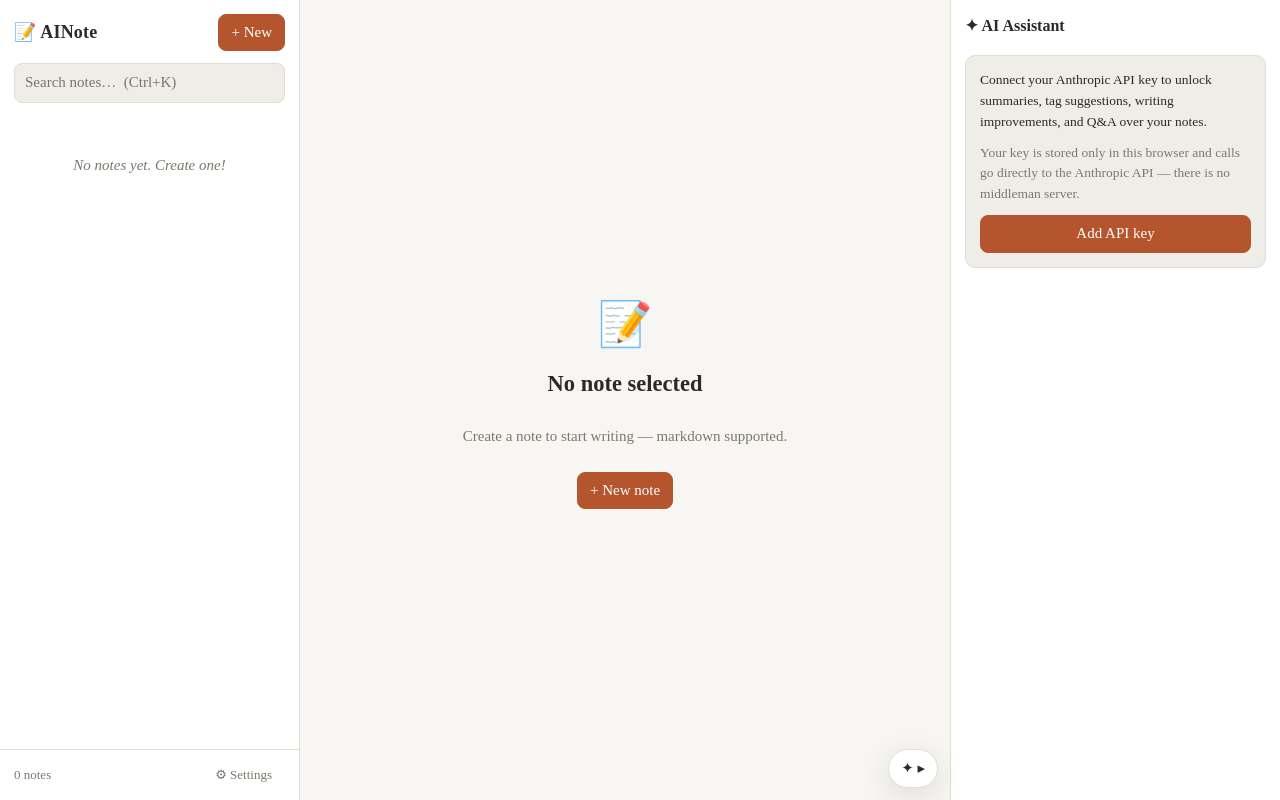
it: App › creates a note and edits its title
Click the button "+ New" at (252, 33), box [218,14,285,51]
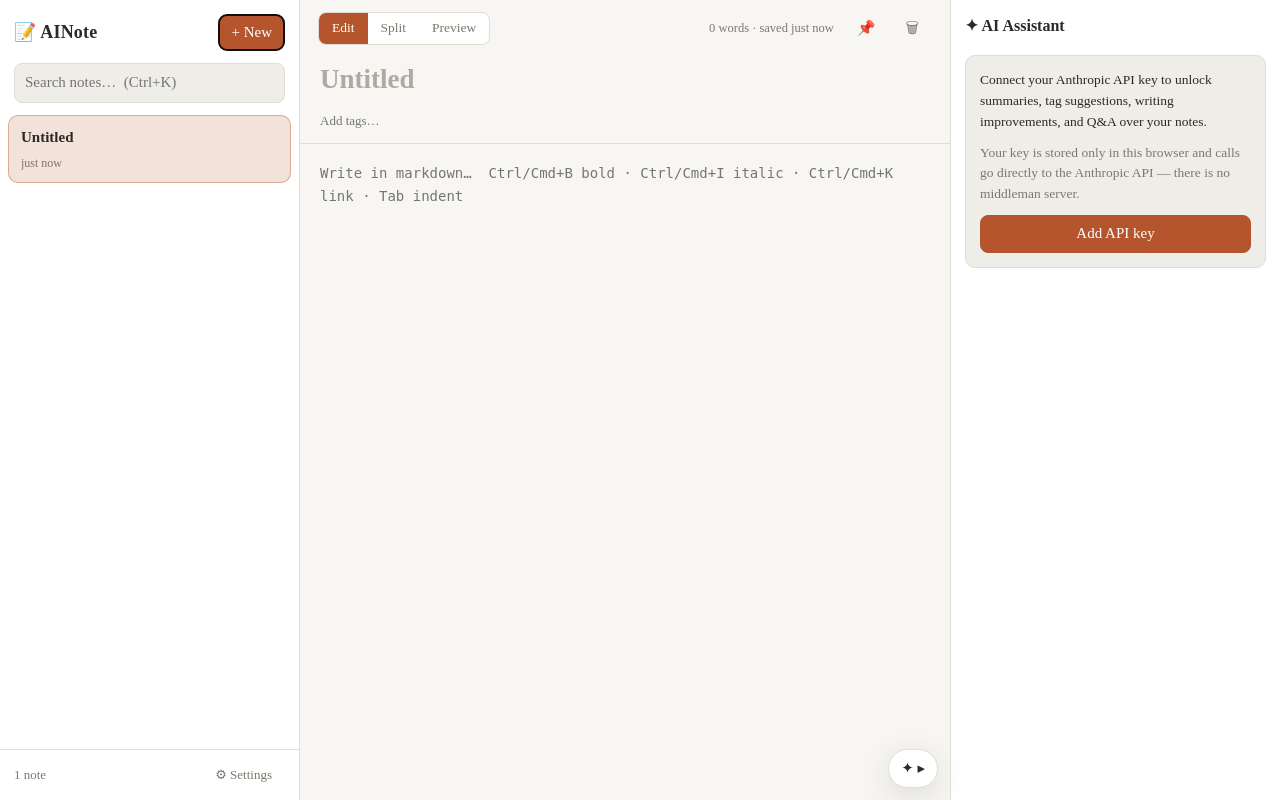
Type "Standup notes" into the field named "Note title" at (625, 75), box [300,47,950,103]
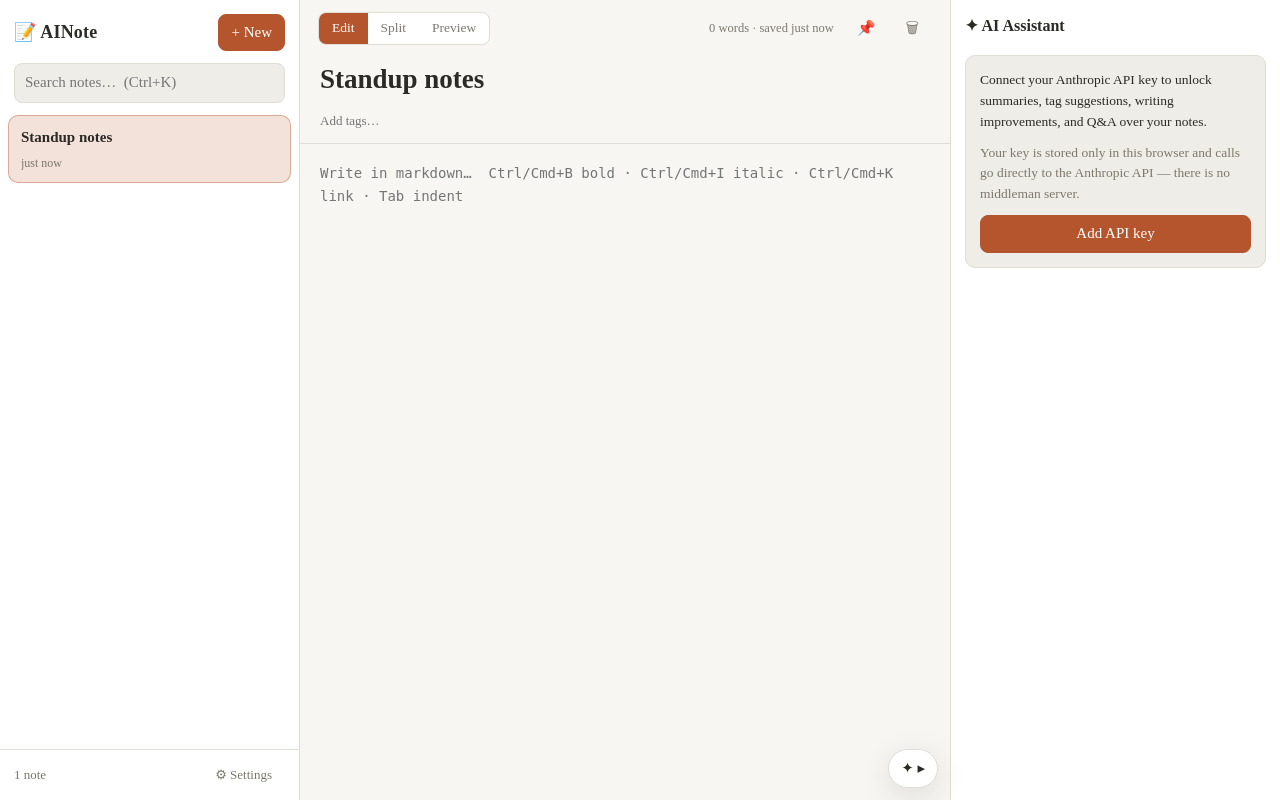
Expected: the text "1 note" is shown, [14,765,46,785]
Expected: the button "Standup notes just now" is shown, [8,114,291,183]
